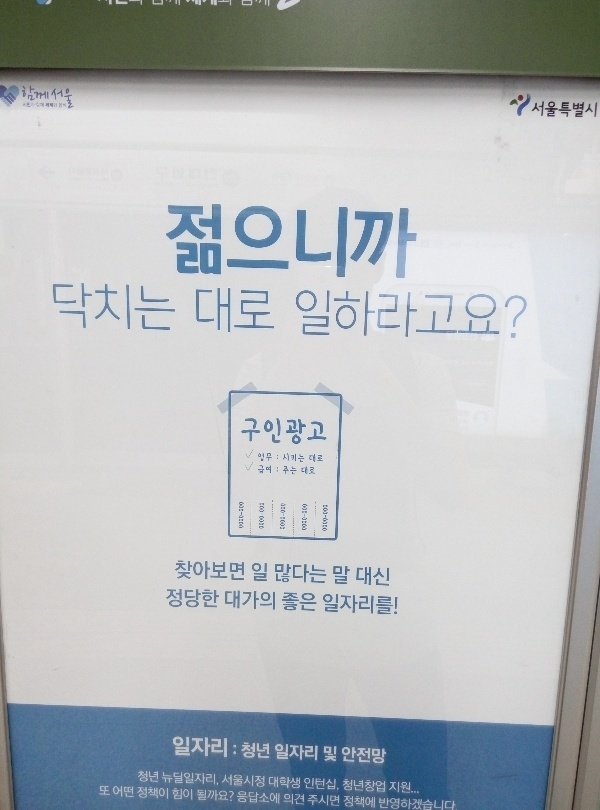text: (161, 200, 176, 288), (177, 200, 192, 288), (193, 200, 208, 288), (209, 200, 224, 288), (225, 200, 240, 288), (241, 200, 256, 288), (257, 200, 272, 288), (273, 200, 288, 288), (289, 200, 304, 288), (305, 200, 320, 288), (321, 200, 336, 288), (337, 200, 352, 288), (353, 200, 368, 288), (369, 200, 384, 288), (385, 200, 400, 288), (401, 200, 416, 288), (305, 283, 320, 344), (321, 283, 336, 344), (337, 283, 352, 344), (353, 283, 368, 344), (369, 283, 384, 344), (385, 283, 400, 344), (401, 283, 416, 344), (417, 283, 432, 344), (433, 283, 448, 344), (449, 283, 464, 344), (465, 283, 480, 344), (481, 283, 496, 344), (497, 283, 512, 344), (513, 283, 528, 344), (65, 281, 80, 335), (81, 281, 96, 335), (97, 281, 112, 335), (113, 281, 128, 335), (129, 281, 144, 335), (145, 281, 160, 335), (161, 281, 176, 335), (209, 287, 224, 335), (225, 287, 240, 335), (241, 287, 256, 335), (257, 287, 272, 335), (51, 281, 64, 335), (293, 283, 304, 344), (195, 287, 208, 335), (257, 415, 272, 451), (273, 415, 288, 451), (289, 415, 304, 451), (305, 415, 320, 451), (243, 415, 256, 451), (417, 200, 422, 288), (177, 558, 192, 584), (193, 558, 208, 584), (209, 558, 224, 584), (225, 558, 240, 584), (177, 735, 192, 760), (193, 735, 208, 760), (209, 735, 224, 760), (289, 562, 304, 586), (305, 562, 320, 586), (177, 587, 192, 611), (193, 587, 208, 611), (323, 504, 336, 531), (545, 98, 560, 121), (561, 98, 576, 121), (577, 98, 592, 121), (259, 503, 272, 529), (274, 562, 288, 586), (369, 566, 384, 588), (337, 593, 352, 615), (353, 593, 368, 615), (369, 593, 384, 615), (289, 591, 304, 613), (225, 590, 240, 612), (241, 590, 256, 612), (257, 590, 272, 612), (321, 415, 330, 451), (225, 735, 237, 760), (337, 565, 351, 586), (323, 593, 336, 615), (385, 593, 398, 615), (305, 591, 318, 613), (289, 744, 304, 763), (353, 746, 368, 765), (369, 746, 384, 765), (241, 741, 256, 759), (33, 85, 48, 103), (274, 744, 288, 763), (305, 744, 319, 763), (356, 566, 368, 588), (257, 561, 268, 584), (54, 86, 64, 111), (65, 86, 75, 111), (166, 587, 176, 611), (209, 587, 219, 611), (225, 773, 240, 789), (241, 773, 256, 789), (305, 776, 320, 792), (321, 776, 336, 792), (353, 794, 368, 810), (113, 2, 128, 18), (129, 2, 144, 18), (145, 2, 160, 18), (161, 2, 176, 18), (177, 2, 192, 18), (193, 2, 208, 18), (209, 2, 224, 18), (225, 2, 240, 18), (241, 2, 256, 18), (257, 2, 272, 18), (273, 2, 288, 18), (257, 741, 270, 759), (161, 772, 176, 787), (177, 772, 192, 787), (193, 772, 208, 787), (241, 790, 256, 805), (257, 790, 272, 805), (321, 793, 336, 808), (177, 787, 193, 801), (289, 792, 305, 806), (324, 745, 336, 763), (20, 85, 32, 103), (273, 776, 288, 790), (353, 779, 368, 793), (369, 779, 384, 793), (401, 781, 416, 795), (385, 796, 400, 810), (401, 796, 416, 810), (417, 796, 432, 810), (433, 796, 448, 810), (341, 746, 352, 765), (289, 2, 302, 18), (535, 98, 544, 121), (145, 787, 160, 800), (209, 789, 224, 802), (100, 2, 112, 18), (281, 503, 288, 530), (145, 770, 159, 783), (113, 786, 128, 798), (289, 452, 305, 463), (289, 776, 301, 790), (309, 793, 320, 808), (196, 789, 208, 802), (258, 464, 272, 475), (281, 591, 288, 613), (209, 772, 219, 787), (273, 287, 276, 335), (321, 562, 327, 586), (99, 785, 112, 796), (258, 453, 272, 463), (342, 779, 352, 793), (390, 781, 400, 795), (593, 98, 599, 121), (225, 789, 235, 802), (257, 773, 265, 789), (344, 794, 352, 810), (449, 796, 458, 810), (171, 735, 176, 760), (308, 454, 320, 464), (251, 561, 256, 584), (369, 794, 376, 810), (385, 566, 390, 588), (273, 790, 280, 805), (241, 558, 245, 584), (161, 787, 169, 800), (137, 770, 144, 783), (137, 787, 144, 800), (305, 467, 316, 475), (305, 503, 308, 531), (289, 466, 298, 475), (241, 502, 244, 529), (173, 558, 176, 584), (36, 102, 48, 108), (379, 796, 384, 810), (273, 464, 279, 475), (273, 590, 276, 612), (333, 565, 336, 586), (529, 283, 530, 344), (273, 453, 279, 463), (129, 786, 134, 798), (302, 503, 304, 531), (172, 787, 176, 801), (284, 792, 288, 806), (177, 281, 178, 335), (49, 102, 58, 108), (24, 102, 32, 108), (283, 466, 288, 475), (237, 790, 240, 805), (337, 793, 340, 808), (269, 776, 272, 790), (417, 781, 420, 795), (385, 746, 387, 765), (58, 103, 64, 109), (285, 452, 288, 463), (337, 776, 339, 792), (321, 454, 324, 464), (239, 502, 240, 529), (301, 467, 304, 475), (49, 85, 50, 103), (385, 779, 386, 793), (33, 102, 35, 108), (46, 102, 48, 108), (65, 103, 67, 109)
